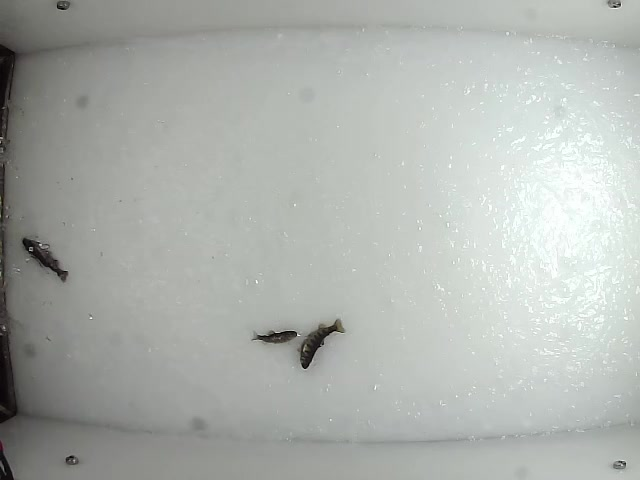fish: (296, 316, 347, 371), (20, 234, 71, 285), (248, 327, 301, 344)
